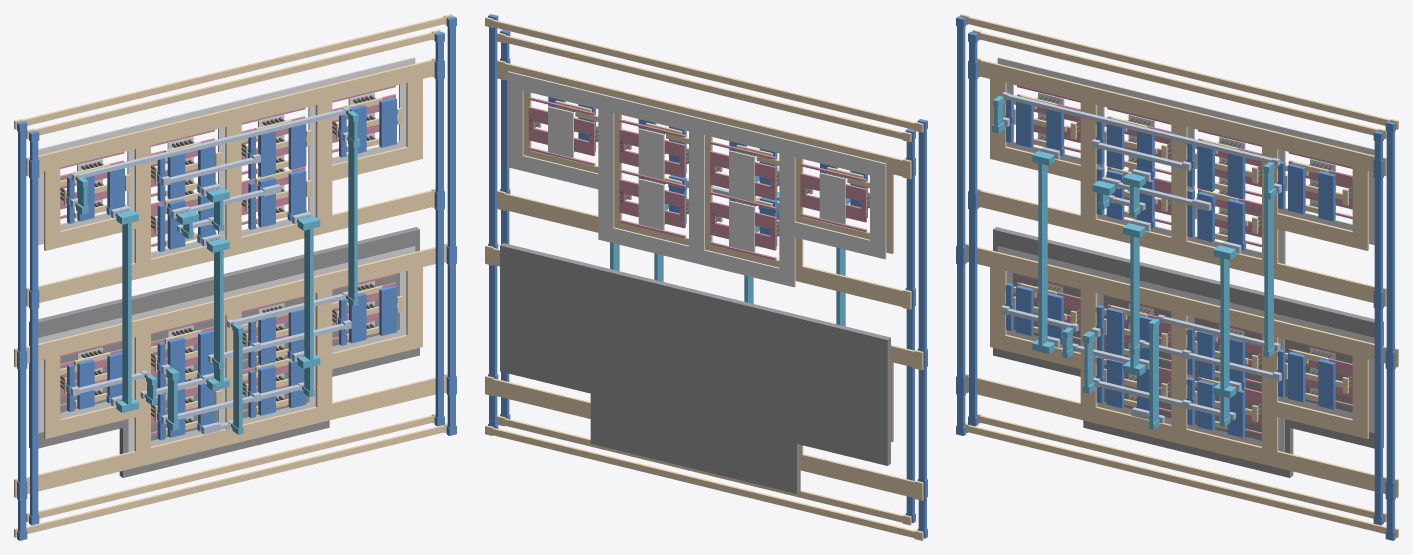
The model's file is current_mirror_OTA.gds.gltf.
3 views of the same model, side by side, from view 1: azimuth 30°, elevation 25°; view 2: azimuth 150°, elevation 25°; view 3: azimuth 330°, elevation 25° (orthographic).
Visible parts, largest first — view 1: COMP2_li1, COMP2_met1, COMP2_met3, LELOATR_PCH_4C5F0_met1 (×6), LELOATR_NCH_4C5F0_met1 (×6), LELOATR_NCH_4C5F0_li1 (×6), LELOATR_PCH_4C5F0_li1 (×6), COMP2_met2, LELOATR_PCH_4CTAPTOP_nwell (×4), LELOATR_NCH_4CTAPBOT_li1 (×4), LELOATR_PCH_4CTAPBOT_li1 (×4), LELOATR_PCH_4CTAPTOP_li1 (×4) (+11 smaller); view 2: LELOATR_PCH_4C5F0_nwell (×6), COMP2_li1, LELOATR_PCH_4CTAPTOP_nwell (×4), LELOATR_PCH_4CTAPBOT_nwell (×4), LELOATR_NCH_4C5F0_diff (×6), COMP2_met1, LELOATR_NCH_4C5F0_poly (×6), LELOATR_NCH_4CTAPBOT_diff (×4), LELOATR_NCH_4CTAPTOP_diff (×4), LELOATR_NCH_4C5F0_li1 (×4), COMP2_met3, LELOATR_NCH_4CTAPBOT_li1 (×2) (+1 smaller); view 3: COMP2_li1, COMP2_met1, COMP2_met3, LELOATR_NCH_4C5F0_met1 (×6), LELOATR_PCH_4C5F0_met1 (×6), COMP2_met2, LELOATR_NCH_4C5F0_li1 (×6), LELOATR_PCH_4CTAPTOP_nwell (×4), LELOATR_PCH_4C5F0_li1 (×5), LELOATR_PCH_4CTAPBOT_li1 (×4), LELOATR_NCH_4CTAPTOP_li1 (×4), LELOATR_PCH_4CTAPTOP_li1 (×4) (+9 smaller).
Boxes of the visible parts, x1,y1,x2,y2 form: COMP2_li1: [14, 14, 452, 537]; COMP2_met1: [17, 16, 456, 540]; COMP2_met3: [76, 111, 360, 434]; LELOATR_PCH_4C5F0_met1 (×6): [67, 285, 396, 440]; LELOATR_NCH_4C5F0_met1 (×6): [67, 97, 396, 251]; LELOATR_NCH_4C5F0_li1 (×6): [44, 83, 422, 258]; LELOATR_PCH_4C5F0_li1 (×6): [44, 272, 422, 446]; COMP2_met2: [70, 107, 351, 434]; LELOATR_PCH_4CTAPTOP_nwell (×4): [29, 227, 419, 365]; LELOATR_NCH_4CTAPBOT_li1 (×4): [44, 134, 422, 278]; LELOATR_PCH_4CTAPBOT_li1 (×4): [44, 322, 422, 466]; LELOATR_PCH_4CTAPTOP_li1 (×4): [44, 252, 422, 368]; LELOATR_PCH_4C5F0_nwell (×6): [500, 285, 890, 463]; COMP2_li1: [485, 17, 923, 540]; LELOATR_PCH_4CTAPTOP_nwell (×4): [500, 243, 890, 385]; LELOATR_PCH_4CTAPBOT_nwell (×4): [500, 326, 890, 493]; LELOATR_NCH_4C5F0_diff (×6): [507, 92, 886, 266]; COMP2_met1: [488, 14, 927, 538]; LELOATR_NCH_4C5F0_poly (×6): [528, 97, 866, 259]; LELOATR_NCH_4CTAPBOT_diff (×4): [507, 142, 886, 287]; LELOATR_NCH_4CTAPTOP_diff (×4): [507, 71, 886, 188]; LELOATR_NCH_4C5F0_li1 (×4): [523, 91, 893, 234]; COMP2_met3: [610, 176, 850, 326]; LELOATR_NCH_4CTAPBOT_li1 (×2): [523, 139, 893, 253]; COMP2_li1: [960, 14, 1398, 537]; COMP2_met1: [956, 16, 1395, 540]; COMP2_met3: [992, 96, 1276, 429]; LELOATR_NCH_4C5F0_met1 (×6): [1006, 100, 1335, 249]; LELOATR_PCH_4C5F0_met1 (×6): [1006, 283, 1335, 437]; COMP2_met2: [1001, 92, 1281, 423]; LELOATR_NCH_4C5F0_li1 (×6): [990, 84, 1368, 257]; LELOATR_PCH_4CTAPTOP_nwell (×4): [993, 227, 1383, 362]; LELOATR_PCH_4C5F0_li1 (×5): [990, 272, 1368, 446]; LELOATR_PCH_4CTAPBOT_li1 (×4): [990, 322, 1368, 466]; LELOATR_NCH_4CTAPTOP_li1 (×4): [990, 63, 1368, 180]; LELOATR_PCH_4CTAPTOP_li1 (×4): [990, 252, 1368, 368].
Size of the model in its own units: 36.48 by 33.18 by 4.13.
